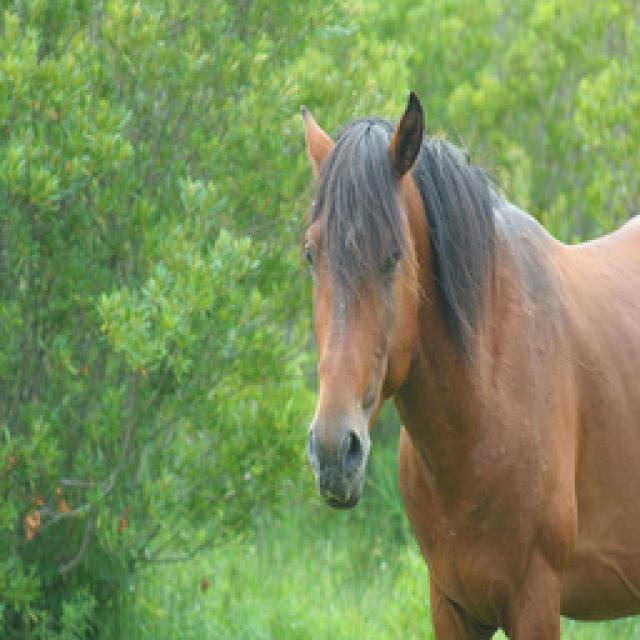not_pig: (298, 88, 638, 638)
